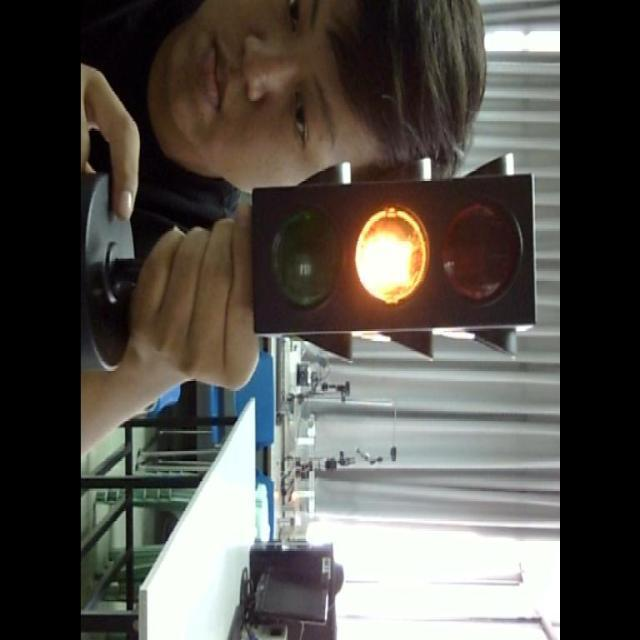yellow_light: (252, 174, 533, 332)
